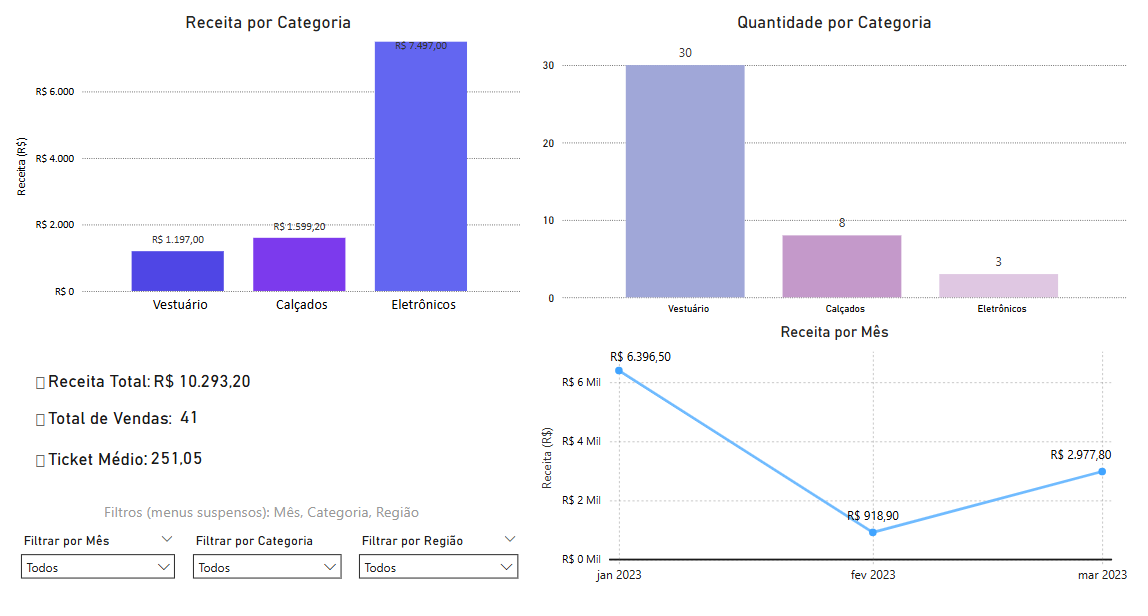

Layout of this report page (visuals, bound fields, positions):
{"tool":"powerbi","page":{"name":"Página 1","canvas":[1280,720],"ordinal":0},"visuals":[{"type":"clusteredColumnChart","title":"Receita por Categoria","fields":{"Category":["Vendas.Categoria"],"Y":["Sum(Vendas.Receita)"]},"box":[15.4,16.9,571.5,343.1],"z":0},{"type":"card","title":"Receita Total ","fields":{"Values":["Sum(Vendas.Receita)"]},"box":[154,397,147,59],"z":1000},{"type":"card","title":"Total de Vendas","fields":{"Values":["Sum(Vendas.Quantidade)"]},"box":[161,438,105,62],"z":2000},{"type":"clusteredColumnChart","title":"Quantidade por Categoria","fields":{"Category":["Vendas.Categoria"],"Y":["Sum(Vendas.Quantidade)"]},"box":[600,17,661,343],"z":3000},{"type":"lineChart","title":"Receita por Mês","fields":{"Y":["Sum(Vendas.Receita)"],"Category":["Vendas.MêsAno"]},"box":[600,362,661,298],"z":4000},{"type":"slicer","fields":{"Values":["Vendas.MêsAno"]},"box":[16.2,591.6,191.2,68.2],"z":5000},{"type":"slicer","fields":{"Values":["Vendas.Categoria"]},"box":[207.4,591.6,184.9,68.2],"z":6000},{"type":"slicer","fields":{"Values":["Vendas.Região"]},"box":[392.3,591.6,196.6,66.4],"z":7000},{"type":"card","title":"Ticket Médio","fields":{"Values":["Vendas.Ticket Medio"]},"box":[100,486,199,59],"z":8000},{"type":"textbox","title":"Filtros (Dropdowns): Mês, Categoria, Região","box":[0,556,588,36],"z":9000},{"type":"textbox","box":[35,410,172,135],"z":10000}]}

Visuals, with their boxes on the page's 1280x720 design canvas (x1, y1, x2, y2). These are canvas units, not pixel positions in the 1148x616 screenshot, which may show the page scaled, cropped or inside an application window:
"Receita por Categoria" clusteredColumnChart: 15:17:587:360
"Receita Total " card: 154:397:301:456
"Total de Vendas" card: 161:438:266:500
"Quantidade por Categoria" clusteredColumnChart: 600:17:1261:360
"Receita por Mês" lineChart: 600:362:1261:660
slicer - Vendas.MêsAno: 16:592:207:660
slicer - Vendas.Categoria: 207:592:392:660
slicer - Vendas.Região: 392:592:589:658
"Ticket Médio" card: 100:486:299:545
"Filtros (Dropdowns): Mês, Categoria, Região" textbox: 0:556:588:592
textbox: 35:410:207:545
